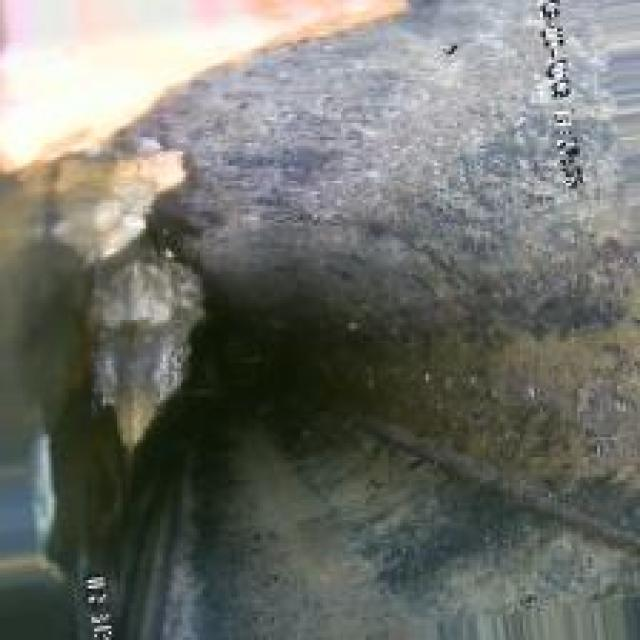stone: (57, 143, 246, 471)
